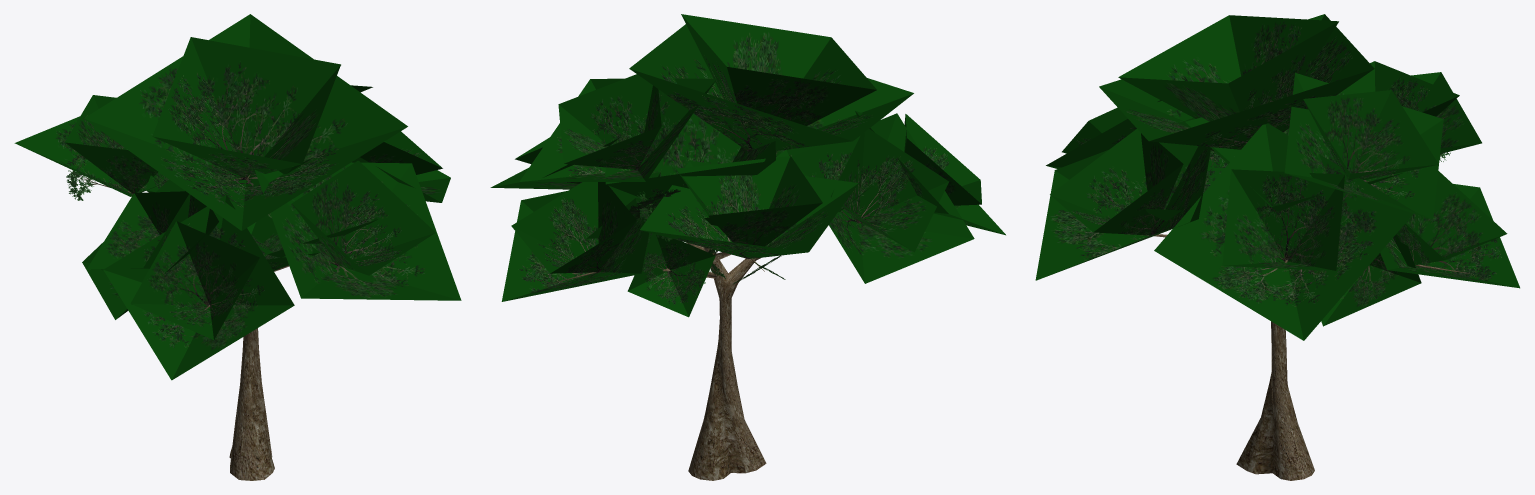
The model's file is decd_treecanopy_a1_l0.fbx.
The picture shows the model from 3 angles, left to right: view 1: azimuth 30°, elevation 25°; view 2: azimuth 150°, elevation 25°; view 3: azimuth 270°, elevation 25°; orthographic projection. The views are drawn at different scales.
Parts seen in each view (by area): view 1: mesh_node; view 2: mesh_node; view 3: mesh_node.
Boxes of the visible parts, x1,y1,x2,y2 form: mesh_node: [14, 14, 461, 480]; mesh_node: [490, 14, 1005, 480]; mesh_node: [1035, 14, 1519, 480].
Size of the model in its own units: 24.08 by 23.76 by 24.25.
